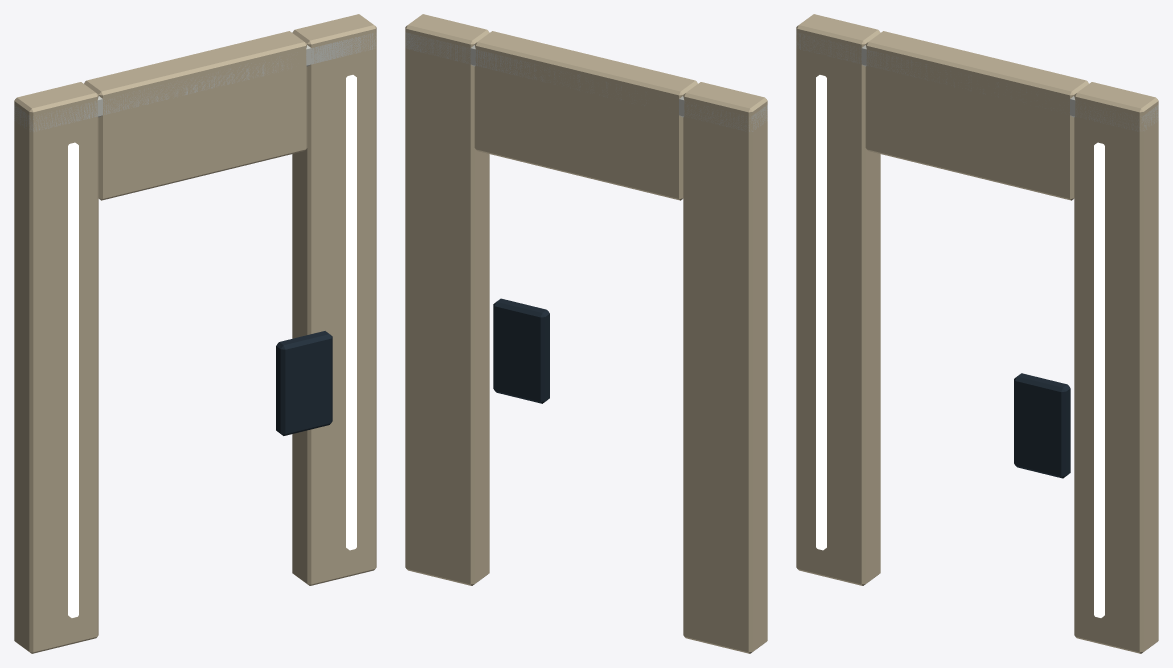
File: architecture-scifi-door-wall.lod0.glb
3 views of the same model, side by side, from view 1: azimuth 30°, elevation 25°; view 2: azimuth 150°, elevation 25°; view 3: azimuth 330°, elevation 25° (orthographic).
Parts seen in each view (by area): view 1: architecture-scifi-door-wall__body; view 2: architecture-scifi-door-wall__body; view 3: architecture-scifi-door-wall__body.
Boxes of the visible parts, <box> form: architecture-scifi-door-wall__body: <box>14,14,376,653</box>; architecture-scifi-door-wall__body: <box>405,14,767,653</box>; architecture-scifi-door-wall__body: <box>796,14,1158,653</box>.
Size of the model in its own units: 2 by 3 by 0.35.
